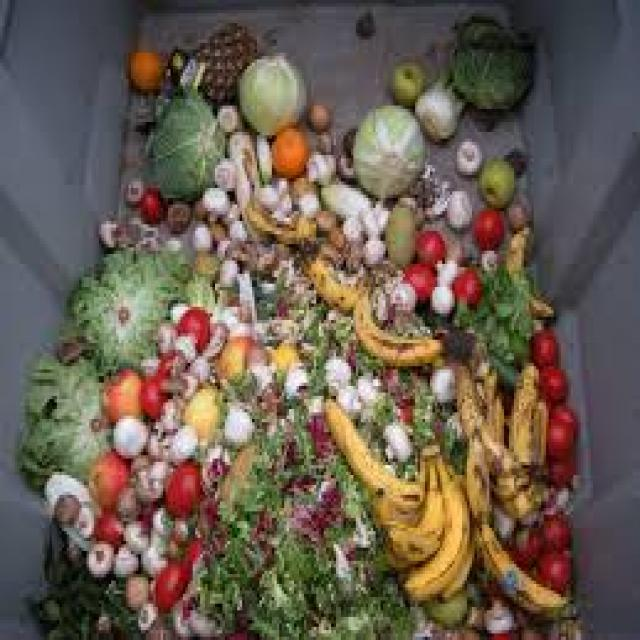food_waste: (132, 44, 552, 640)
